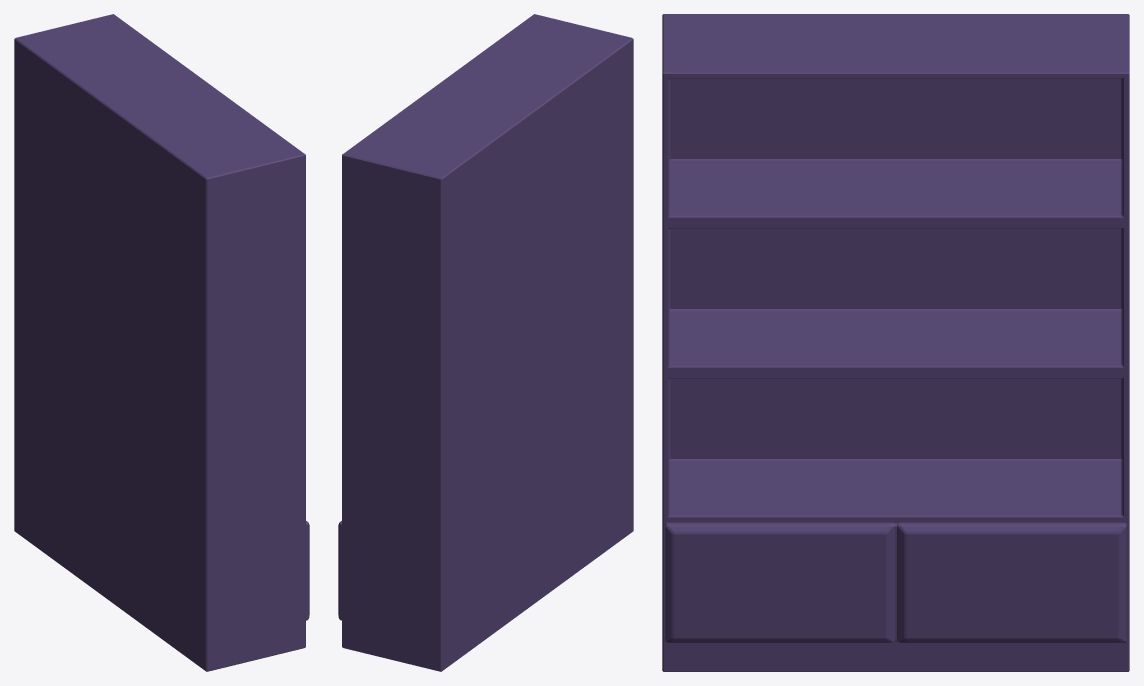
Rendered from BookShelf.fbx.
3 renders of one model, left to right at view 1: azimuth 30°, elevation 25°; view 2: azimuth 150°, elevation 25°; view 3: azimuth 270°, elevation 25°, orthographic. The views are drawn at different scales.
Visible parts, largest first — view 1: BookShelf; view 2: BookShelf; view 3: BookShelf.
Boxes of the visible parts, bbox=[...] form: BookShelf: bbox=[14, 14, 309, 671]; BookShelf: bbox=[338, 14, 633, 671]; BookShelf: bbox=[662, 14, 1129, 671].
Size of the model in its own units: 0.5038 by 2.21 by 1.56.
